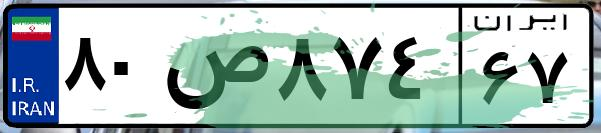0: (110, 28, 158, 98)
4: (385, 28, 445, 110)
6: (475, 38, 525, 113)
7: (330, 28, 385, 110), (525, 38, 570, 115)
8: (270, 28, 330, 110), (57, 26, 110, 100)
ص: (158, 20, 270, 120)
